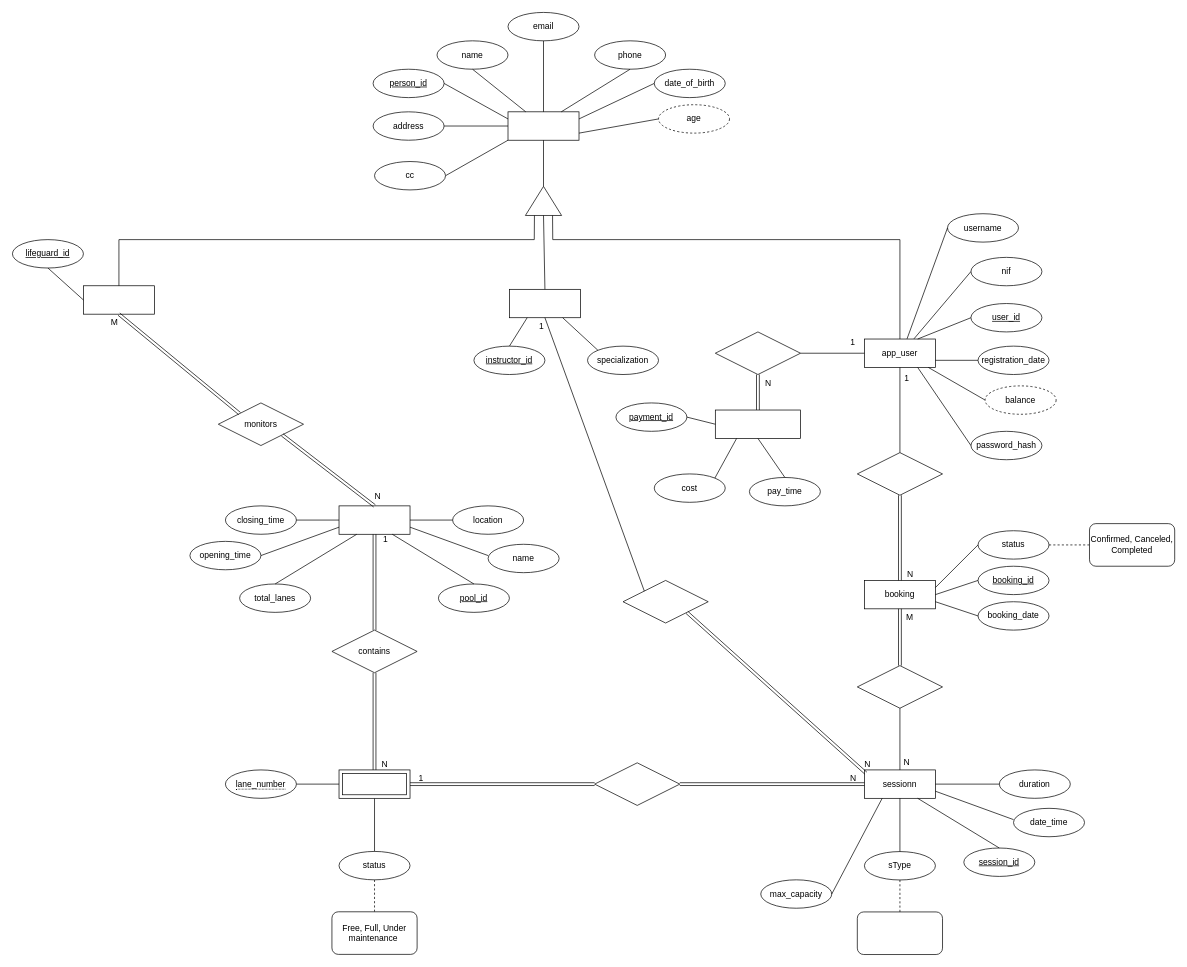
The diagram is 1187 pixels wide and 967 high, and some of its shapes have lost their labels. The shapes that lost their labels are listed below. From the top down, each one's box as (x1, y1, x2, y2) in pixels, then its label:
(507, 111, 579, 140): person
(525, 186, 562, 215): is-a
(83, 285, 154, 314): lifeguard
(509, 289, 580, 318): instructor
(715, 331, 801, 375): Performs
(715, 409, 801, 438): Payment
(857, 452, 943, 495): makes
(338, 505, 410, 534): pool
(622, 580, 708, 623): conducts
(857, 665, 943, 708): has
(338, 769, 410, 798): lane
(594, 762, 680, 805): occurs
(857, 911, 943, 955): Free, Class, Aqua Aerobics
